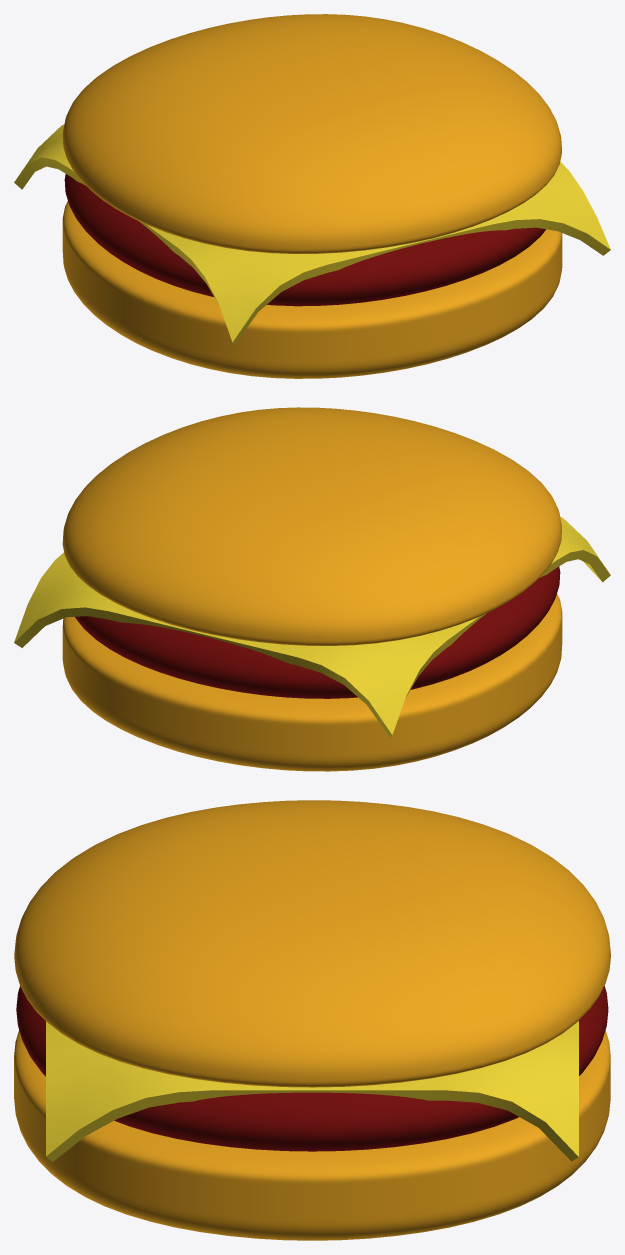
The model's file is hamburger.glb.
The picture shows the model from 3 angles, top to bottom: view 1: azimuth 30°, elevation 25°; view 2: azimuth 150°, elevation 25°; view 3: azimuth 270°, elevation 25°; orthographic projection. The views are drawn at different scales.
Parts seen in each view (by area): view 1: Cube.003, Cube.001, Cube.002, Plane; view 2: Cube.003, Cube.001, Cube.002, Plane; view 3: Cube.003, Cube.001, Plane, Cube.002.
Part boxes in pixels (bbox=[...]): Cube.003: bbox=[62, 14, 561, 253]; Cube.001: bbox=[62, 201, 562, 378]; Cube.002: bbox=[64, 174, 545, 306]; Plane: bbox=[14, 124, 610, 344]; Cube.003: bbox=[62, 407, 561, 645]; Cube.001: bbox=[62, 594, 562, 771]; Cube.002: bbox=[75, 566, 560, 698]; Plane: bbox=[14, 517, 610, 737]; Cube.003: bbox=[14, 800, 610, 1087]; Cube.001: bbox=[14, 1030, 610, 1240]; Plane: bbox=[46, 1021, 578, 1161]; Cube.002: bbox=[16, 986, 608, 1151].
Size of the model in its own units: 9.03 by 4.7 by 9.03.
